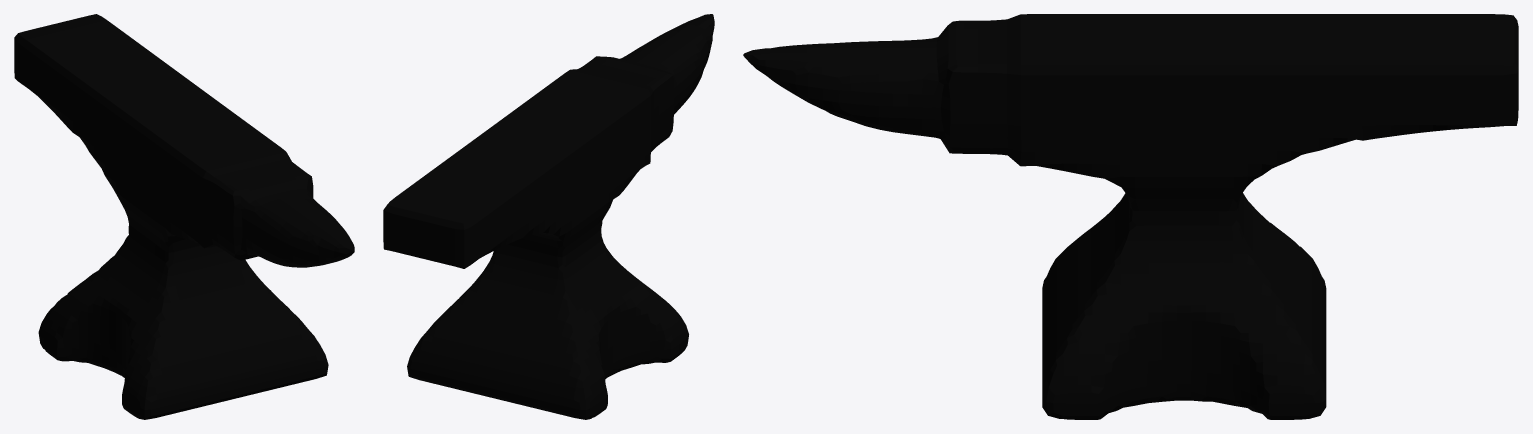
File: anvil_simple_lowp.gltf
The picture shows the model from 3 angles, left to right: view 1: azimuth 30°, elevation 25°; view 2: azimuth 150°, elevation 25°; view 3: azimuth 270°, elevation 25°; orthographic projection. The views are drawn at different scales.
Visible parts, largest first — view 1: Plane; view 2: Plane; view 3: Plane.
Part boxes in pixels (x1,y1,x2,y2): Plane: [14, 14, 354, 419]; Plane: [383, 14, 714, 419]; Plane: [743, 14, 1518, 419].
Bounding box in the file's own units: 2 × 2.51 × 5.45.
1 material, 1 textured.
